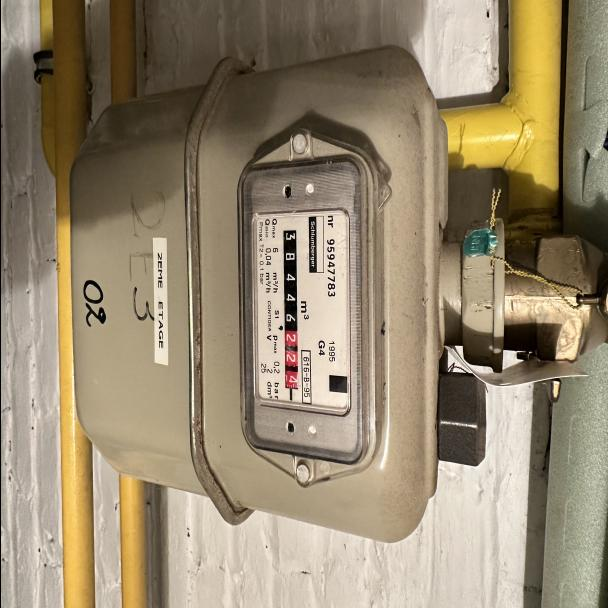2: (280, 350, 298, 372), (280, 332, 298, 349)
3: (280, 228, 296, 246)
4: (283, 371, 299, 393), (281, 270, 297, 288), (282, 290, 298, 308)
6: (282, 309, 297, 329)
8: (280, 247, 298, 268)
cm: (278, 330, 300, 396)
counter: (279, 228, 299, 332)
